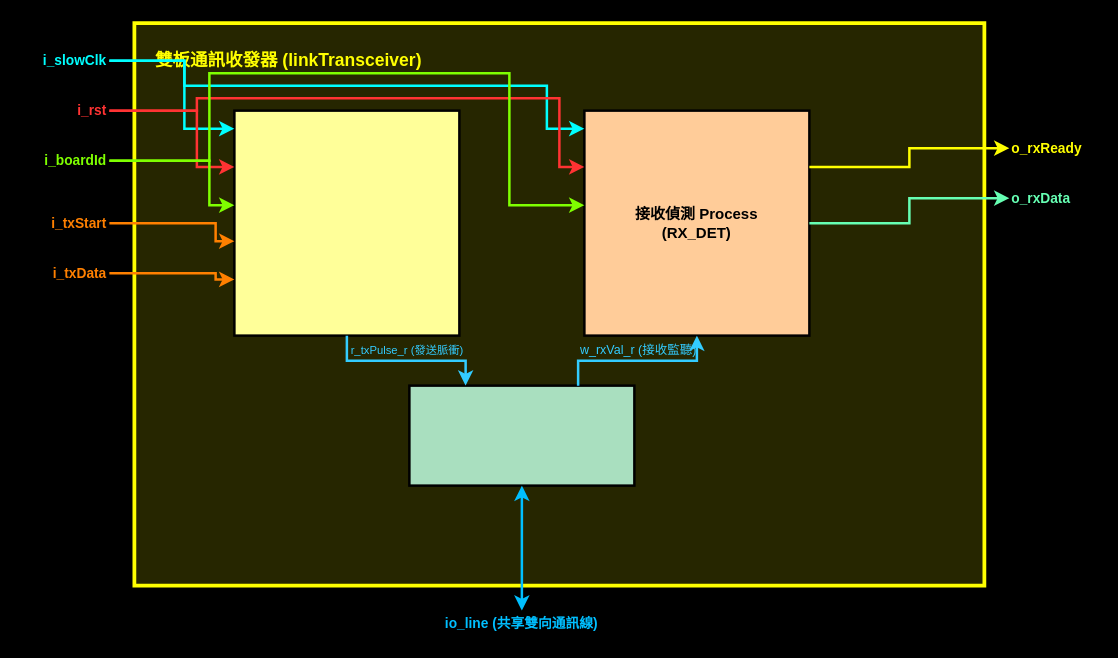
This 1118x658 diagram has some shape labels left out. Each missing label, with the centre of its shape:
三態控制 Process (TRI_CTRL): point (521, 435)
傳送脈衝 Process (TX_GEN): point (346, 222)
